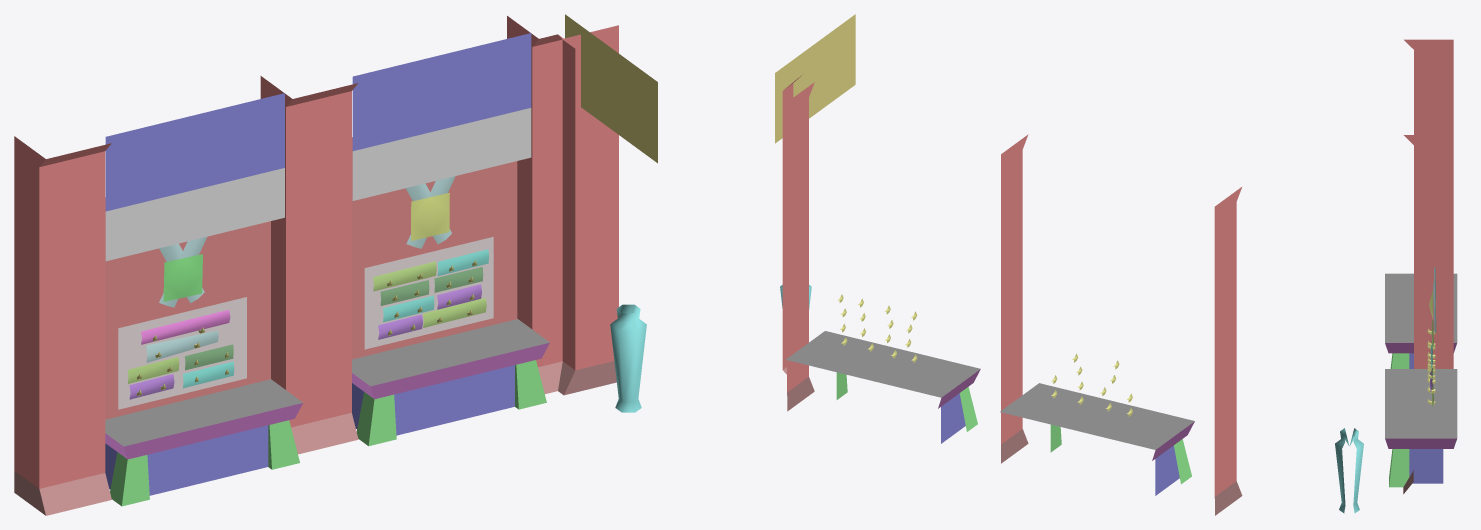
The model's file is interior_B_delf_store_12.gltf.
3 views of the same model, side by side, from view 1: azimuth 30°, elevation 25°; view 2: azimuth 150°, elevation 25°; view 3: azimuth 270°, elevation 25° (orthographic). The views are drawn at different scales.
Visible parts, largest first — view 1: interior_B_delf_store_12; view 2: interior_B_delf_store_12; view 3: interior_B_delf_store_12.
Part boxes in pixels (left/top/right/bottom): interior_B_delf_store_12: left=14, top=14, right=657, bottom=515; interior_B_delf_store_12: left=775, top=14, right=1242, bottom=515; interior_B_delf_store_12: left=1335, top=39, right=1457, bottom=513.
Size of the model in its own units: 2.63 by 1.62 by 0.9882.
